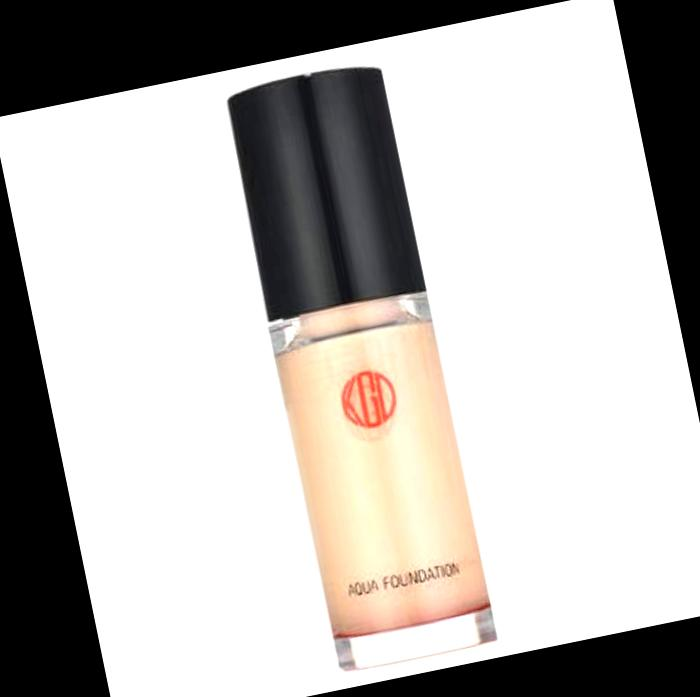cosmetic: (218, 59, 504, 678)
